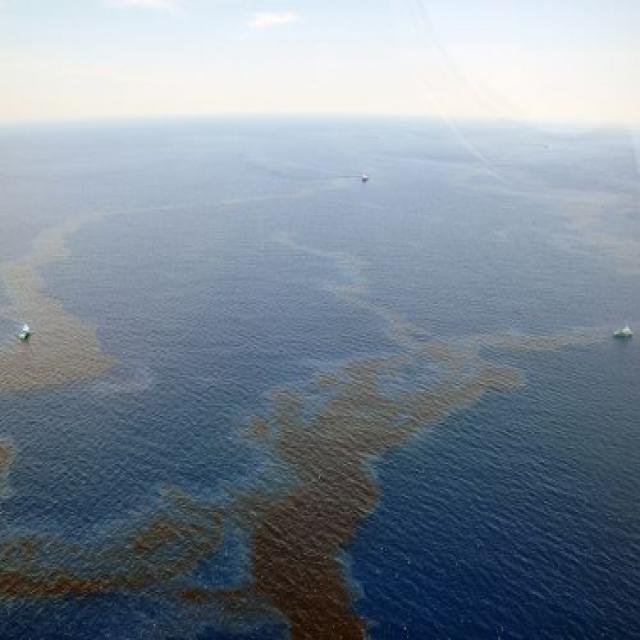truecolor: (253, 341, 522, 640), (0, 571, 110, 598), (133, 517, 184, 559)
